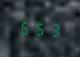five: (18, 18, 31, 36), (33, 19, 46, 37)
three: (47, 20, 60, 38)
